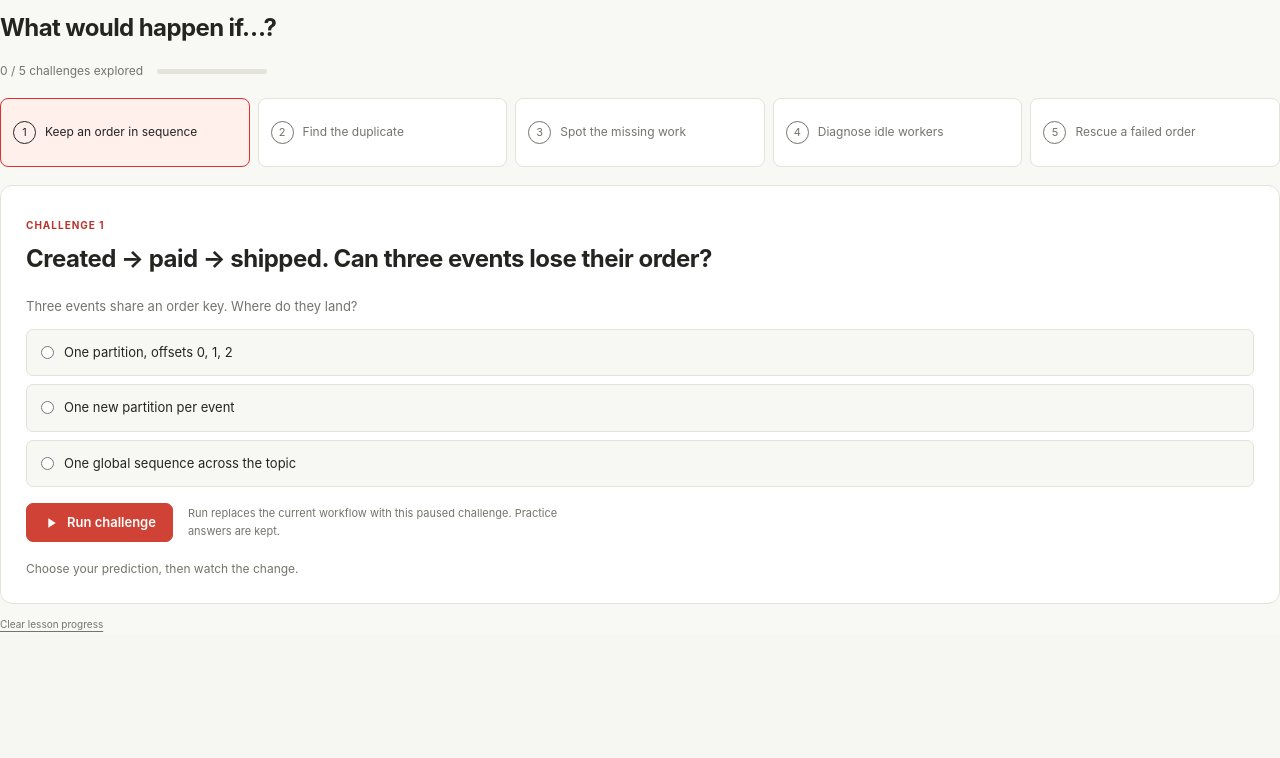
guided causal experiments with actual simulator evidence › shows one active question, requires a prediction, and lets a wrong answer be revised against real evidence
Expected: the button "Run challenge" is disabled, [26,503,173,542]
Click the radio button labelled "One new partition per event": [48, 408] box [41,401,54,414]
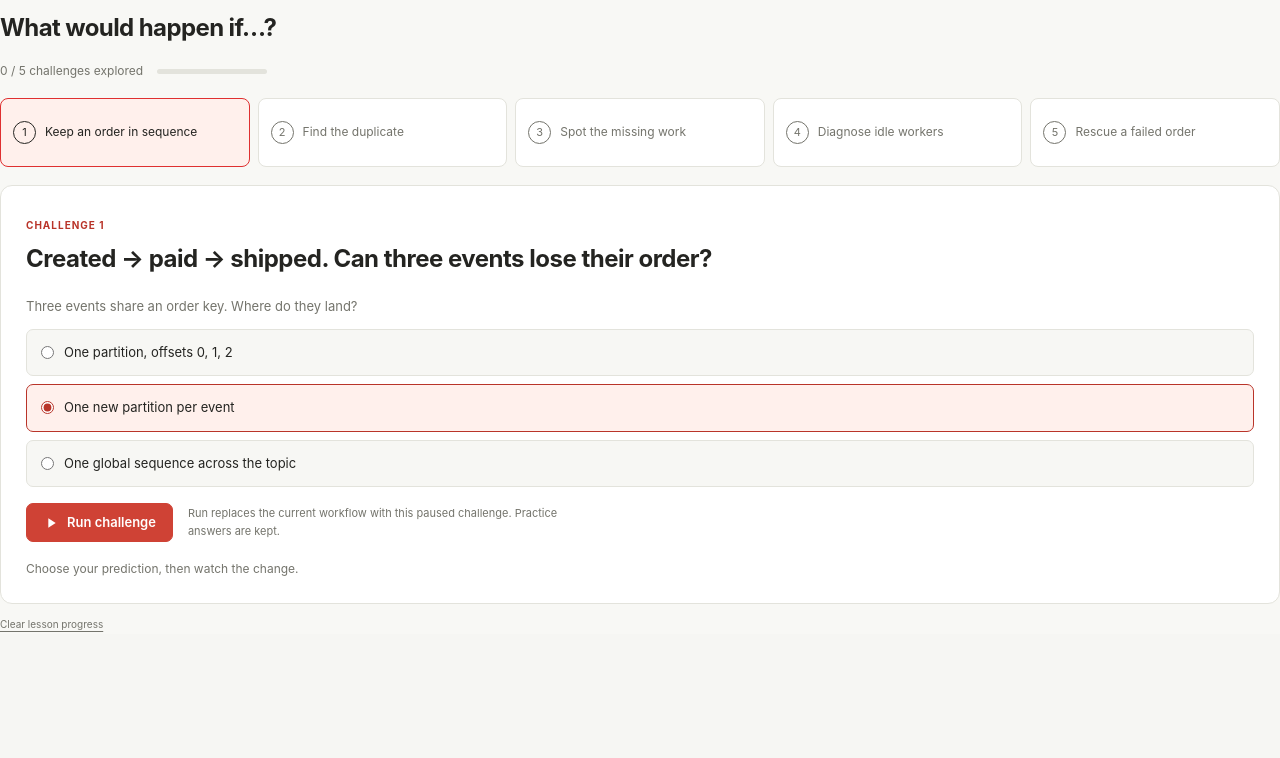
Click the button "Run challenge": [99, 522] box [26,503,173,542]
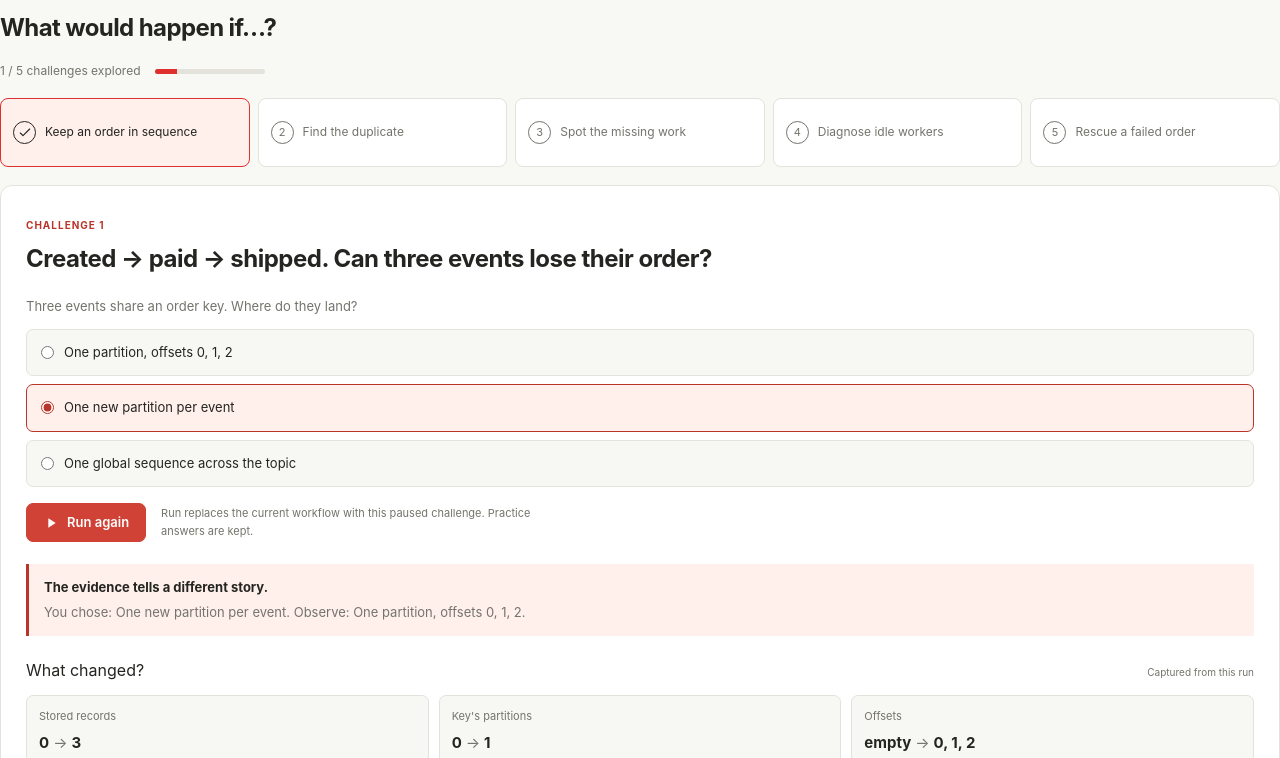
Expected: the message shows "The evidence tells a different story", [44,579,268,595]
Click the radio button labelled "One partition, offsets 0, 1, 2": [48, 352] box [41,346,54,358]
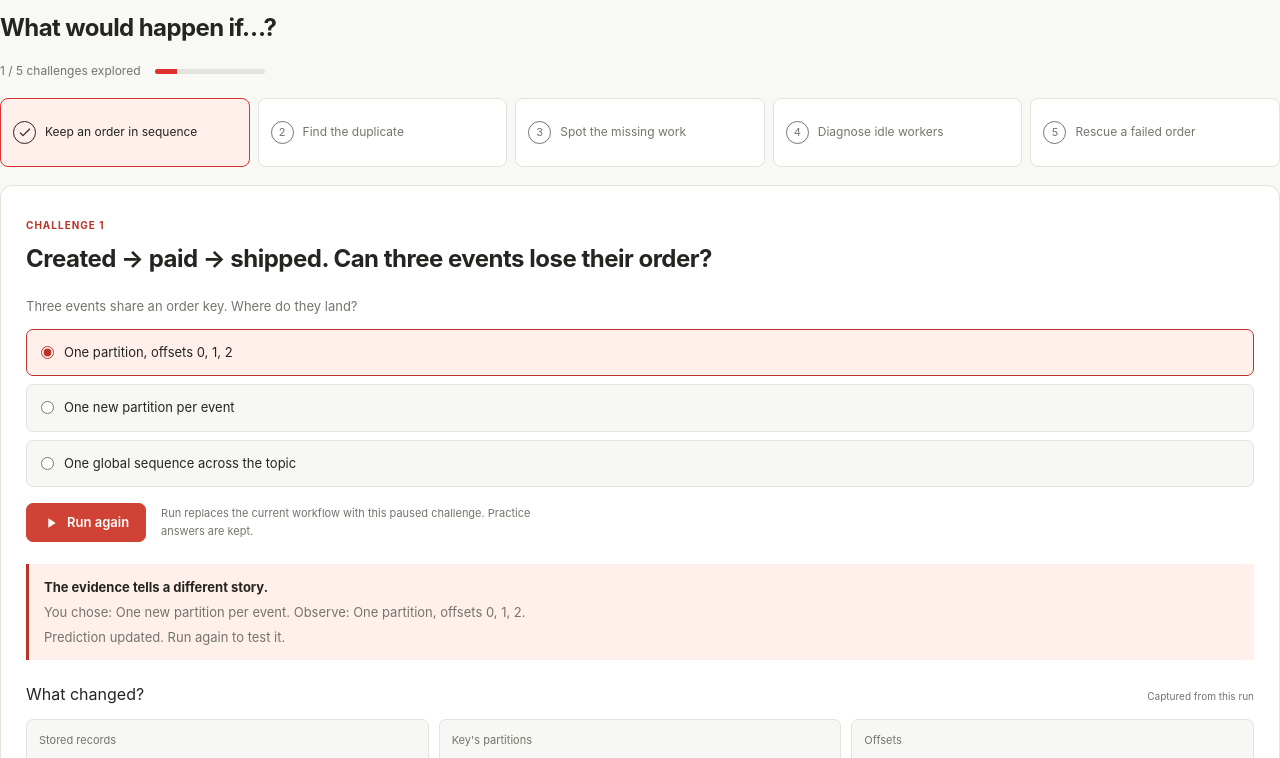
Expected: the message shows "Prediction updated", [44,629,285,645]
Click the button "Run again": [86, 522] box [26,503,146,542]
(page scrolled)
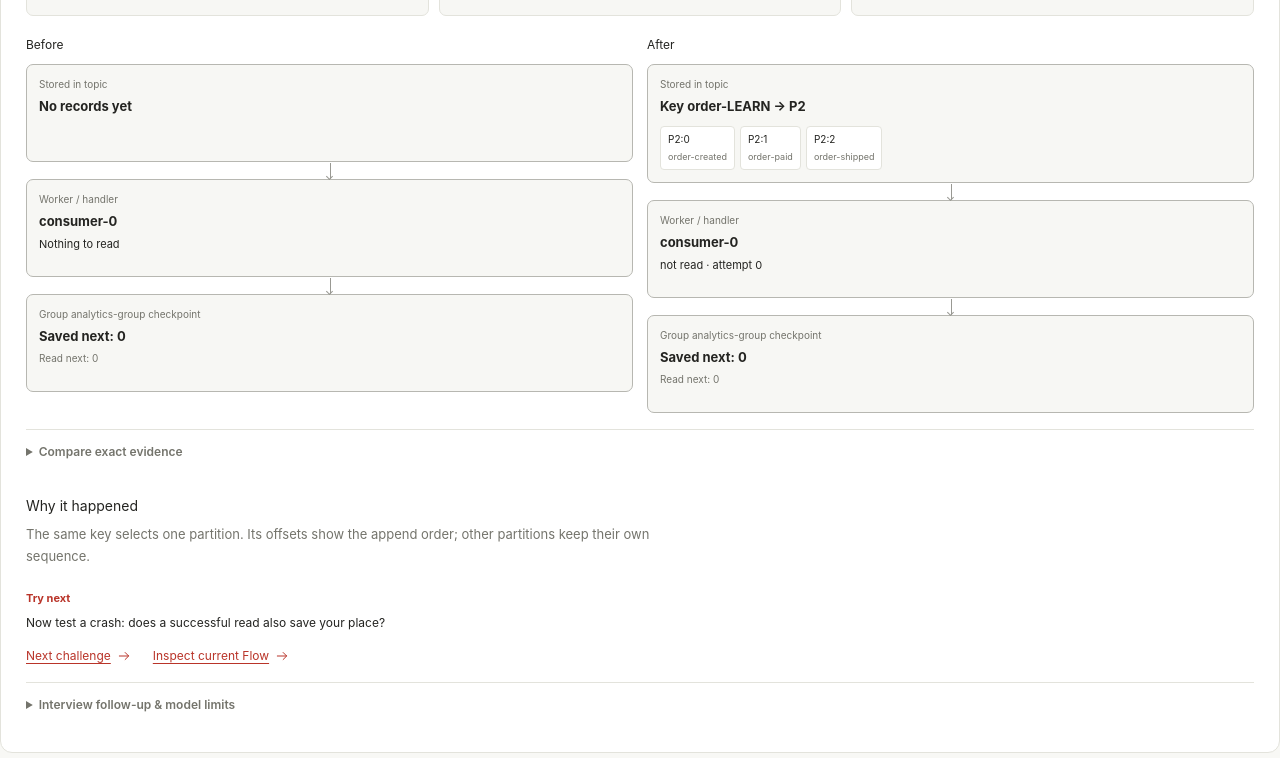
Click the heading "Compare exact evidence": [111, 451] box [39,444,183,459]
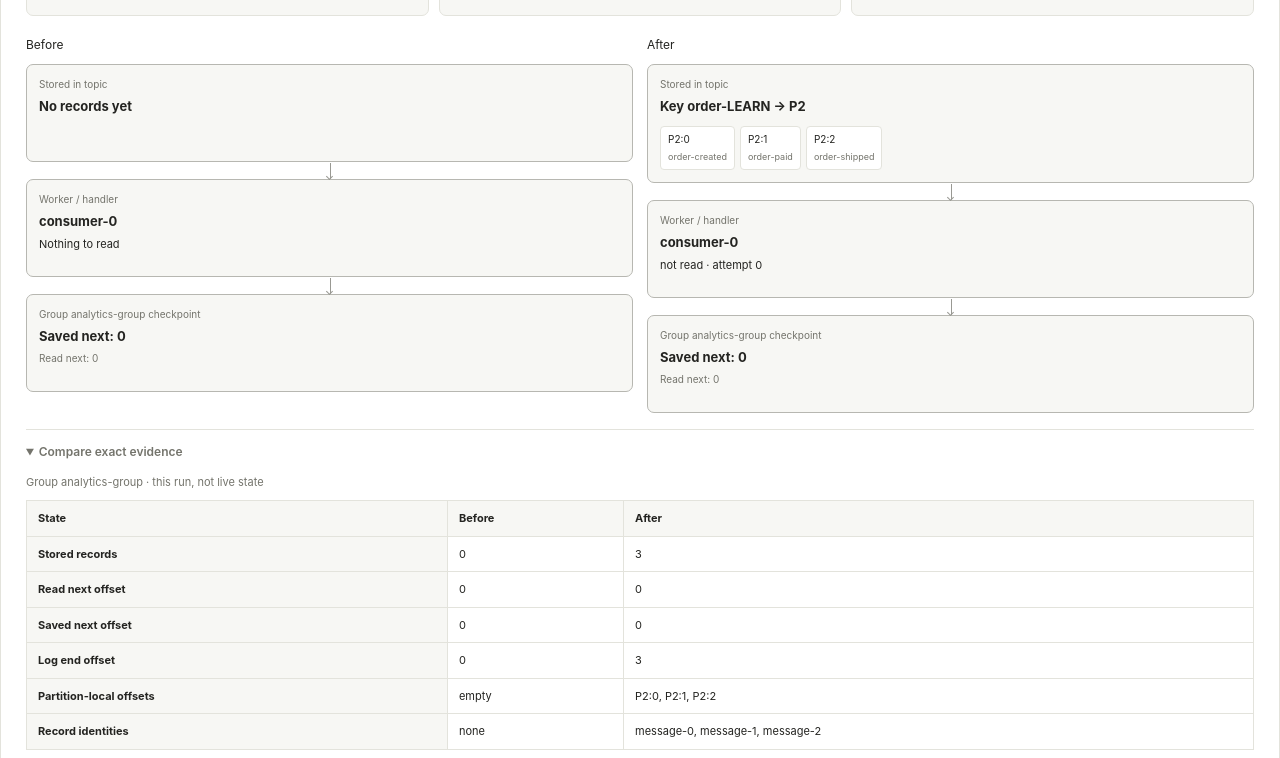
Expected: the column heading "Record identities" is shown, [26,714,447,749]
